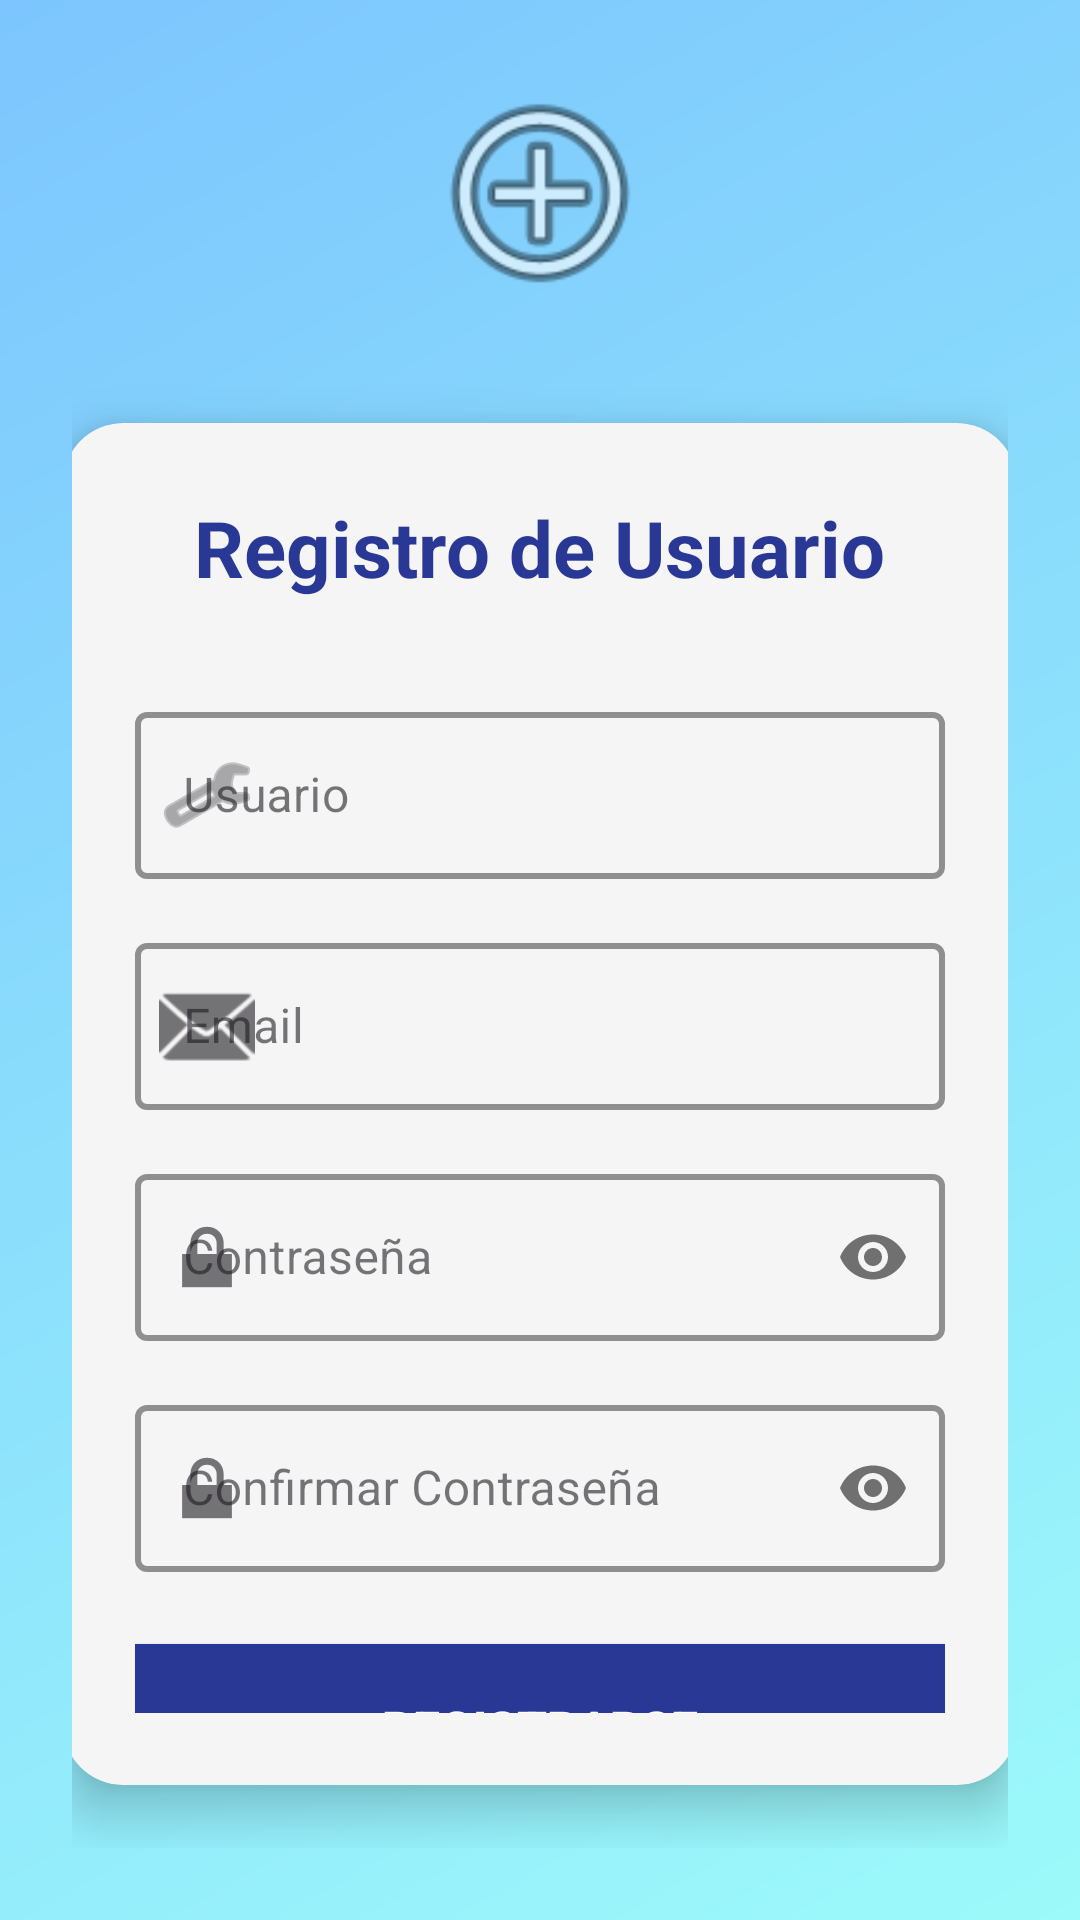

Locate icon controls on the screen. Image size 1080px×1920px, boxes as box(x1, y1, x2, y2).
Ícono de registro: box(450, 104, 630, 283)
